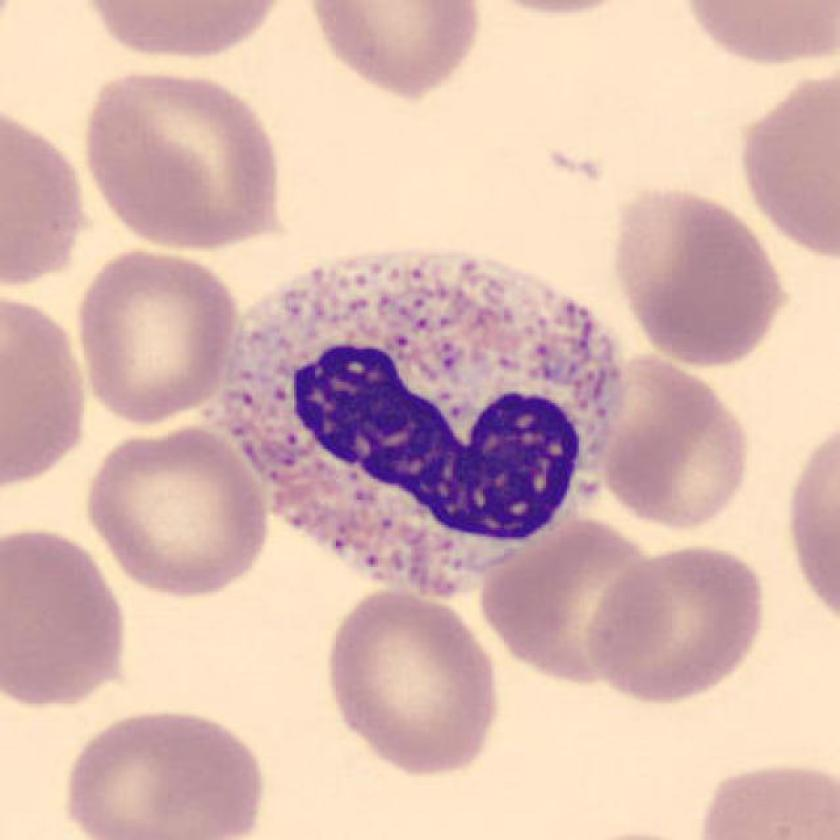neutrophil: (227, 253, 621, 589)
